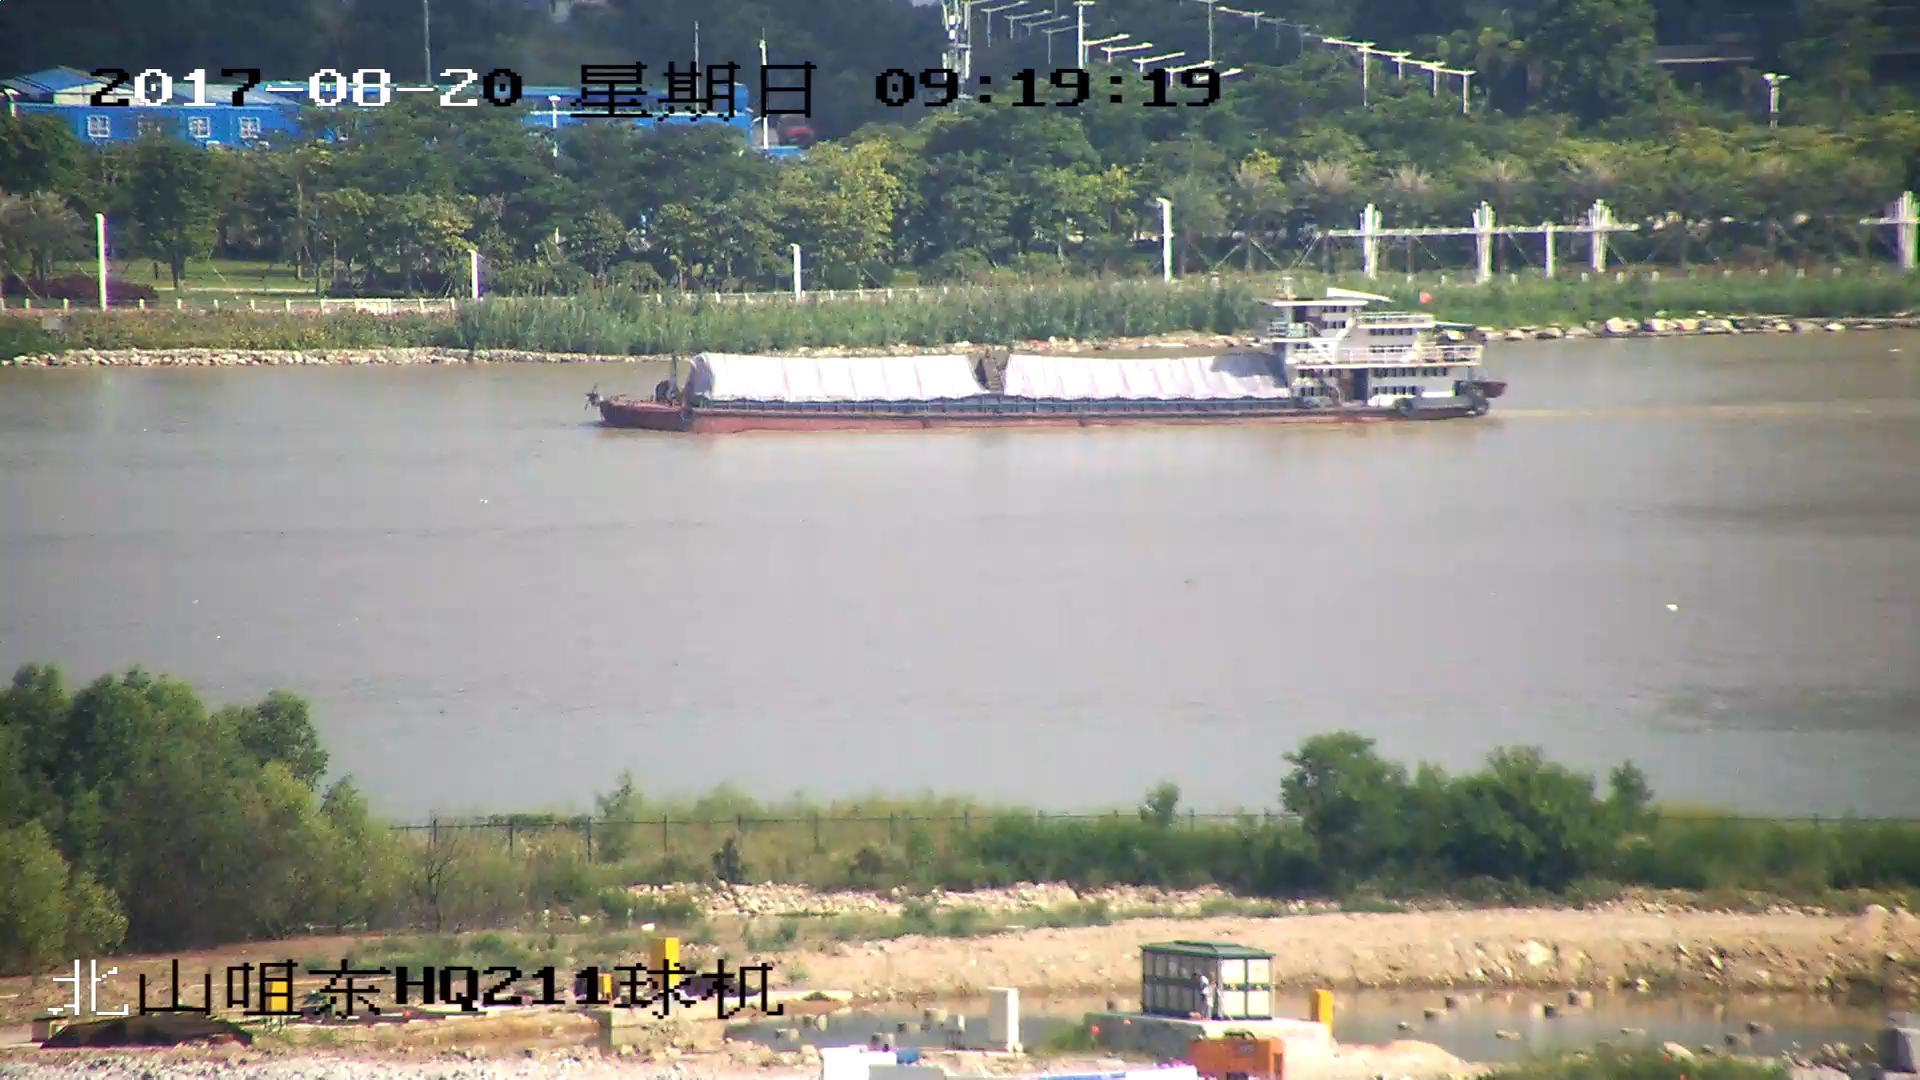Ship: (592, 289, 1506, 435)
